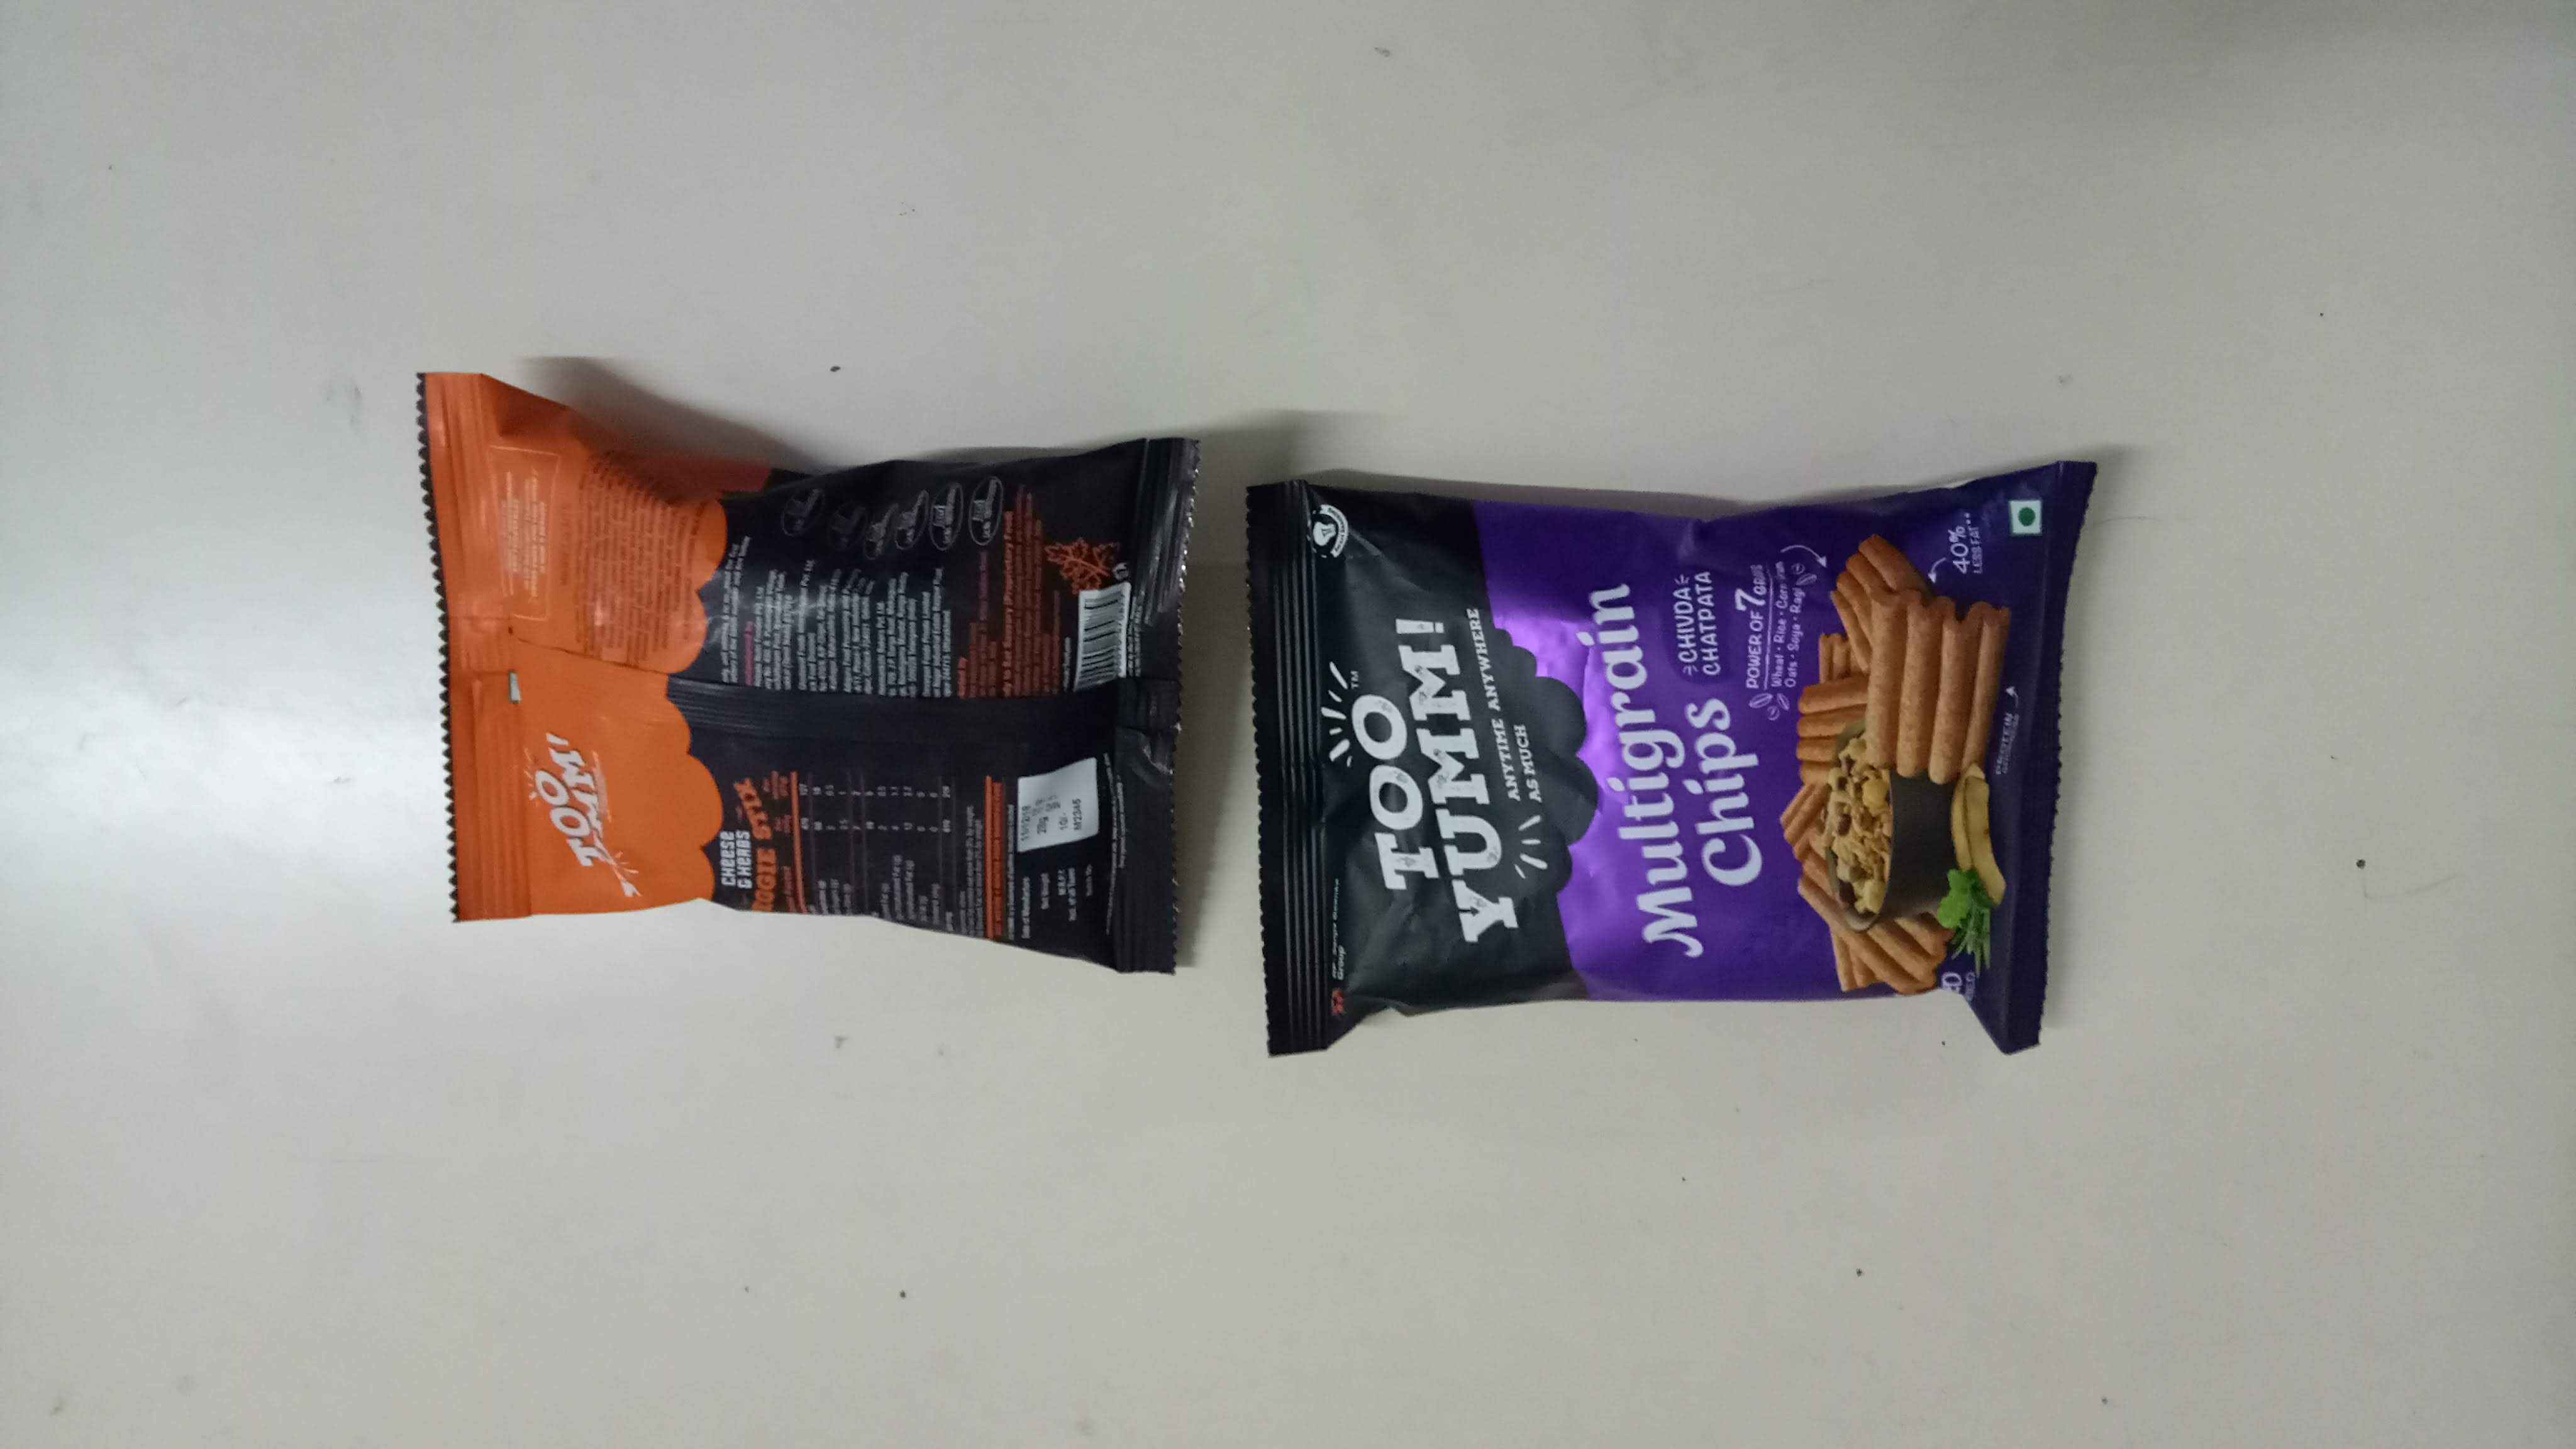tooyumm: (1332, 564, 1527, 948), (533, 736, 640, 890)
